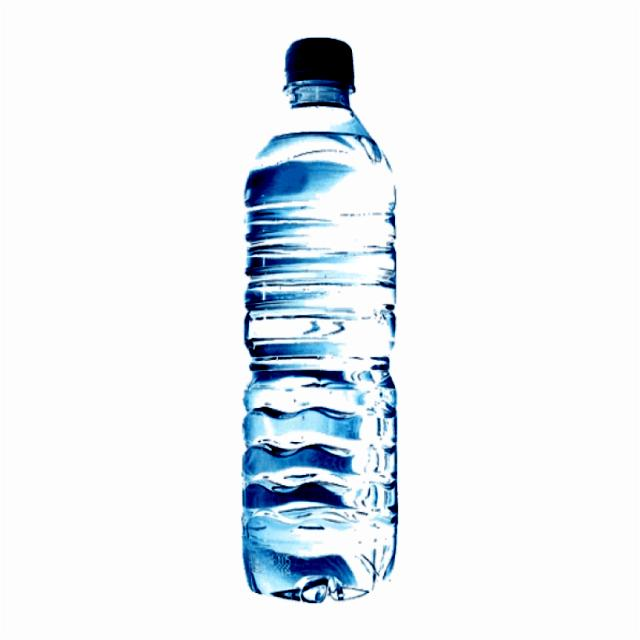full-bottle: (241, 31, 400, 603)
